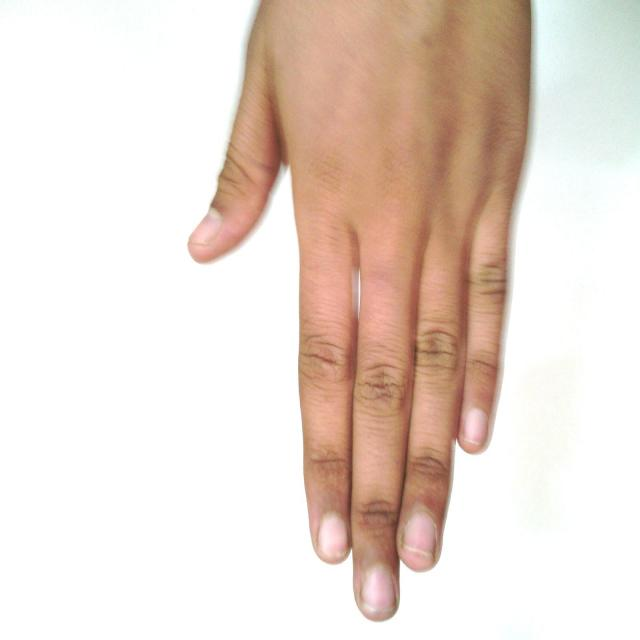others: (181, 1, 583, 624)
